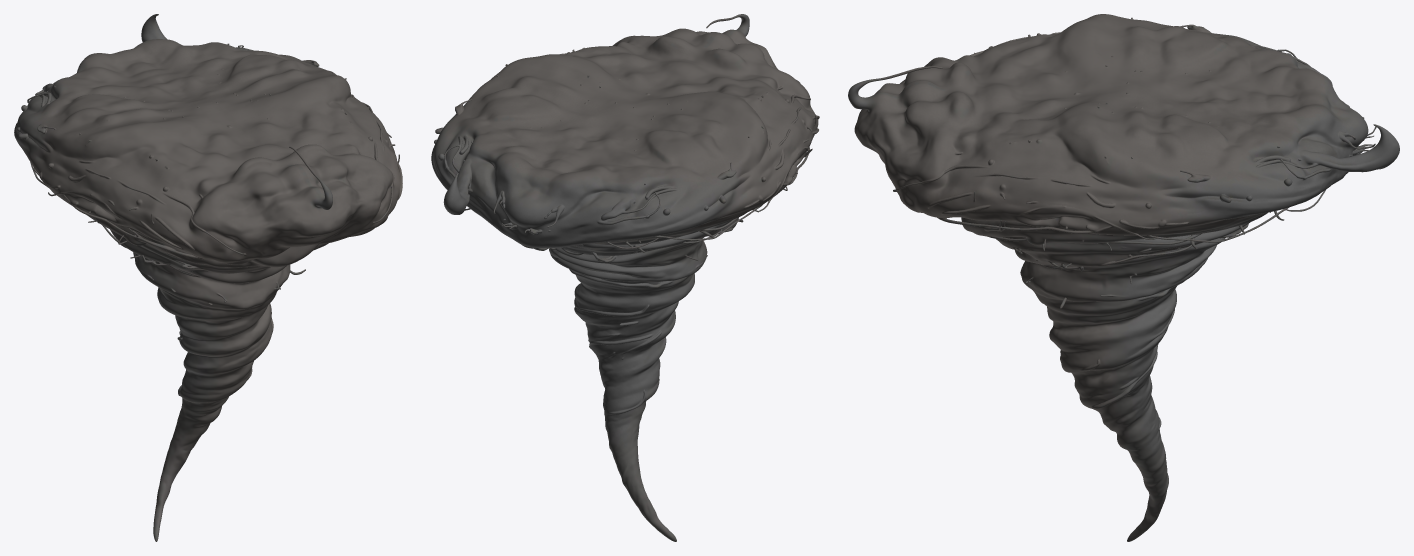
The model's file is tornado-3d-model-329cf557.glb.
3 views of the same model, side by side, from view 1: azimuth 30°, elevation 25°; view 2: azimuth 150°, elevation 25°; view 3: azimuth 270°, elevation 25° (orthographic). The views are drawn at different scales.
Parts seen in each view (by area): view 1: tripo_node_6d0cc50b-94cf-4b83-86b9-3c646cac0bf2; view 2: tripo_node_6d0cc50b-94cf-4b83-86b9-3c646cac0bf2; view 3: tripo_node_6d0cc50b-94cf-4b83-86b9-3c646cac0bf2.
Boxes of the visible parts, bbox=[...] form: tripo_node_6d0cc50b-94cf-4b83-86b9-3c646cac0bf2: bbox=[14, 14, 402, 541]; tripo_node_6d0cc50b-94cf-4b83-86b9-3c646cac0bf2: bbox=[431, 14, 819, 541]; tripo_node_6d0cc50b-94cf-4b83-86b9-3c646cac0bf2: bbox=[848, 14, 1399, 541].
Size of the model in its own units: 0.7247 by 1 by 0.9925.
Materials: 1 (1 with a texture image).
